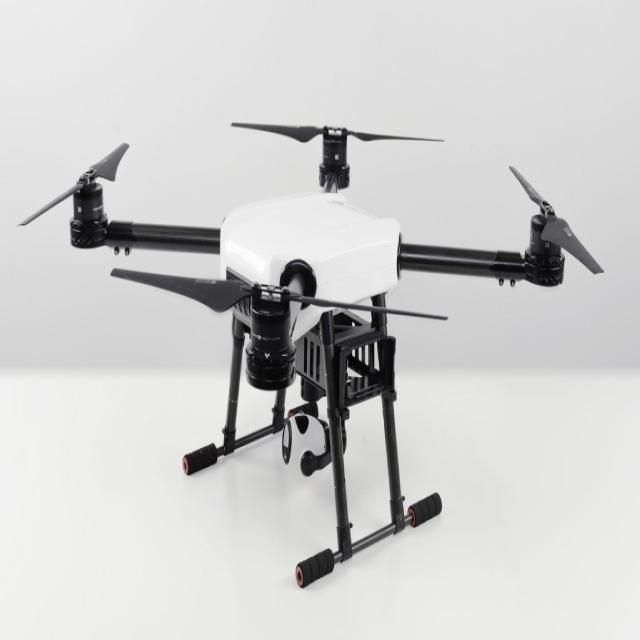drone: (23, 75, 579, 597)
